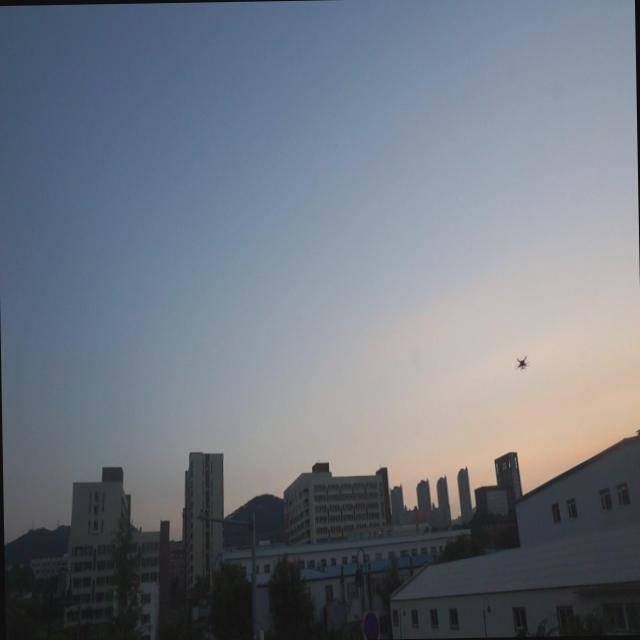drone: (515, 352, 529, 372)
